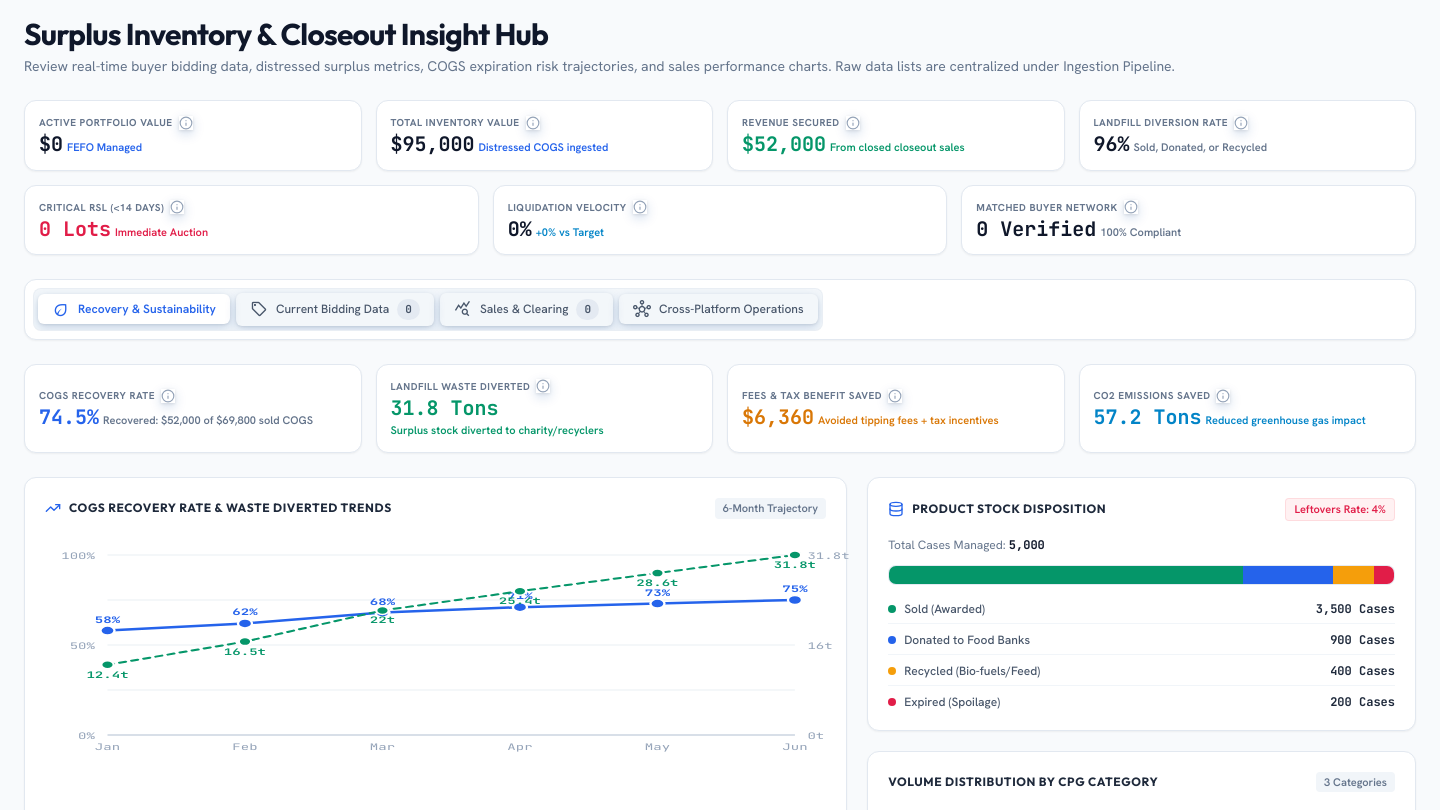
Centralized Insight Hub — Recovery & Sustainability End-to-End Telemetry Integration (Ticket 04) › renders exact formula disclosures on metric card info button clicks with exclusive dismissal
Note: Click COGS Recovery info button
Click the button named "more information about cogs recovery rate" at [168, 396], box [161,388,175,402]
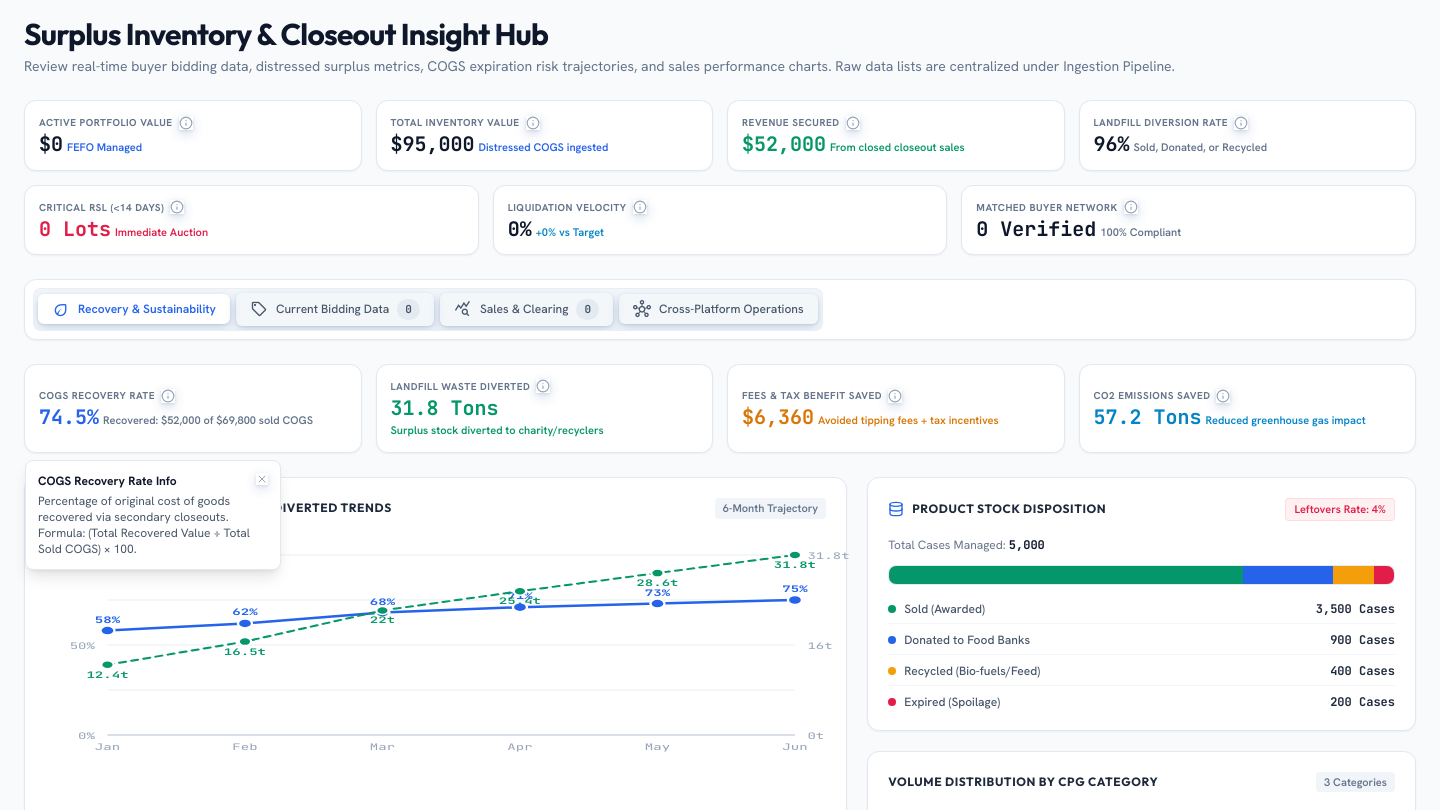
expect the dialog with test id "info-overlay" is shown: met, box [25,460,281,570]
expect the text "Formula: (Total Recovered Value ÷ Total Sold COGS) × 100" is shown: met, box [38,493,250,557]
Click the button named "more information about landfill waste diverted" at [543, 386], box [536,379,550,393]
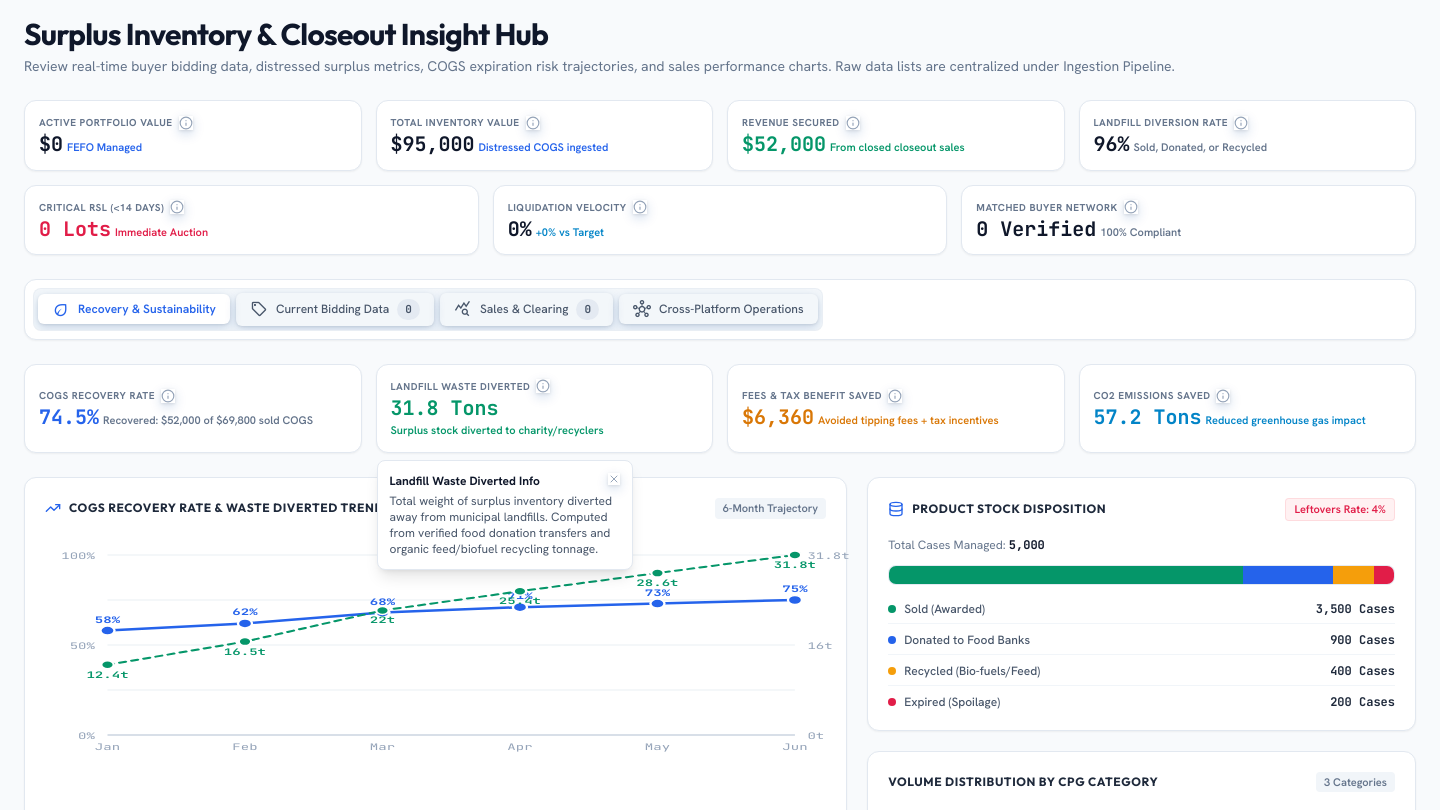
expect the text "Landfill Waste Diverted Info" is shown: met, box [390,473,540,489]
expect the text "COGS Recovery Rate Info" is gone: met
expect the text "Computed from verified food donation transfers" is shown: met, box [390,493,612,557]
